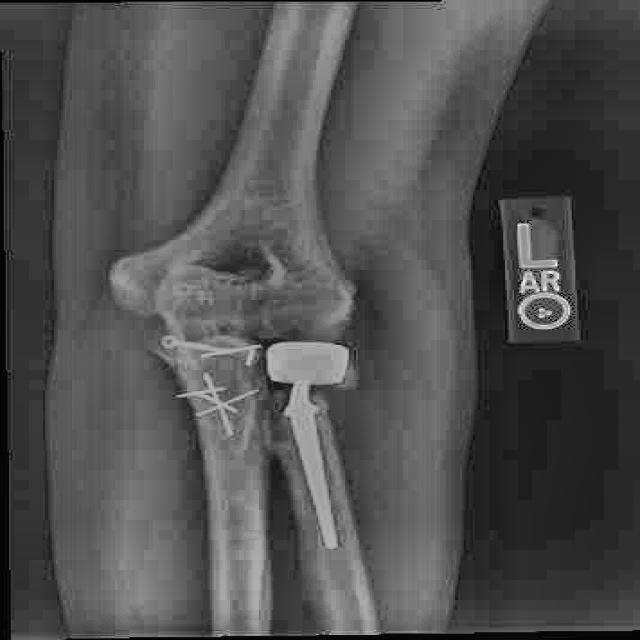elbow positive: (248, 356, 374, 429)
